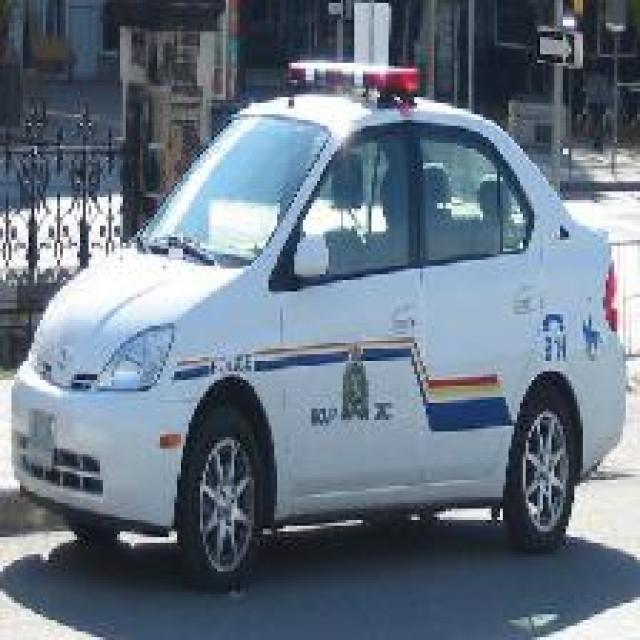emergency: (6, 55, 628, 590)
